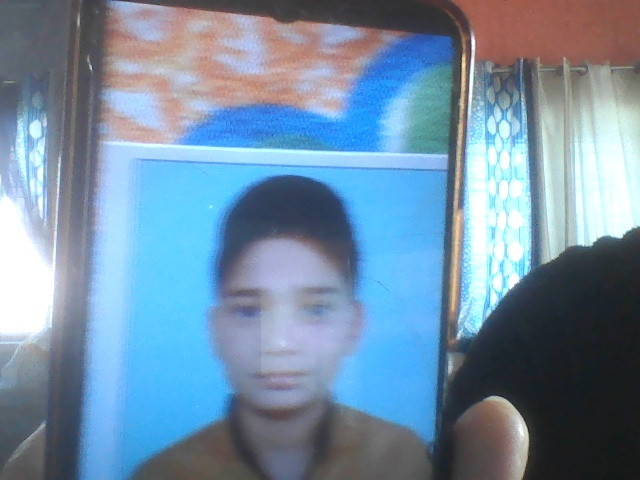fake: (193, 171, 382, 439)
